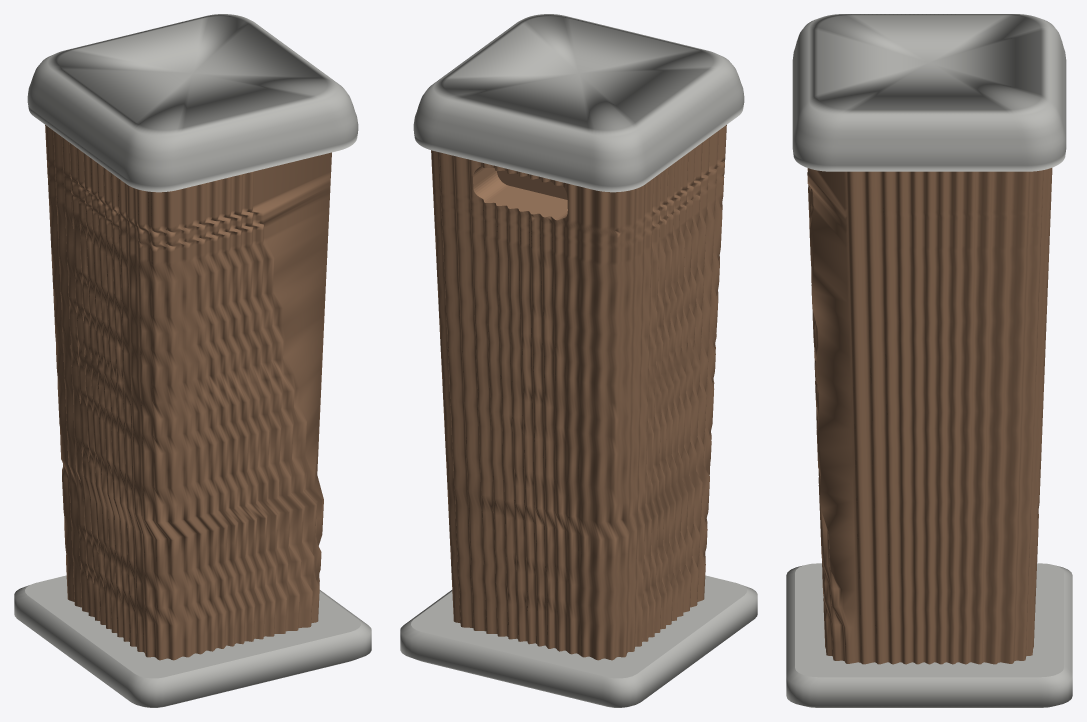
The model's file is 37-trash-bin-bs1.glb.
3 views of the same model, side by side, from view 1: azimuth 30°, elevation 25°; view 2: azimuth 150°, elevation 25°; view 3: azimuth 270°, elevation 25° (orthographic). The views are drawn at different scales.
Visible parts, largest first — view 1: Body, Rim, Plinth; view 2: Body, Rim, Plinth; view 3: Body, Rim, Plinth.
Part boxes in pixels (<box>): Body: <box>45,125,331,660</box>; Rim: <box>27,14,358,192</box>; Plinth: <box>14,575,371,707</box>; Body: <box>431,125,726,660</box>; Rim: <box>413,14,744,192</box>; Plinth: <box>400,575,757,707</box>; Body: <box>807,168,1052,664</box>; Rim: <box>792,14,1066,171</box>; Plinth: <box>786,563,1072,707</box>.
Size of the model in its own units: 1.18 by 2.67 by 1.18.
